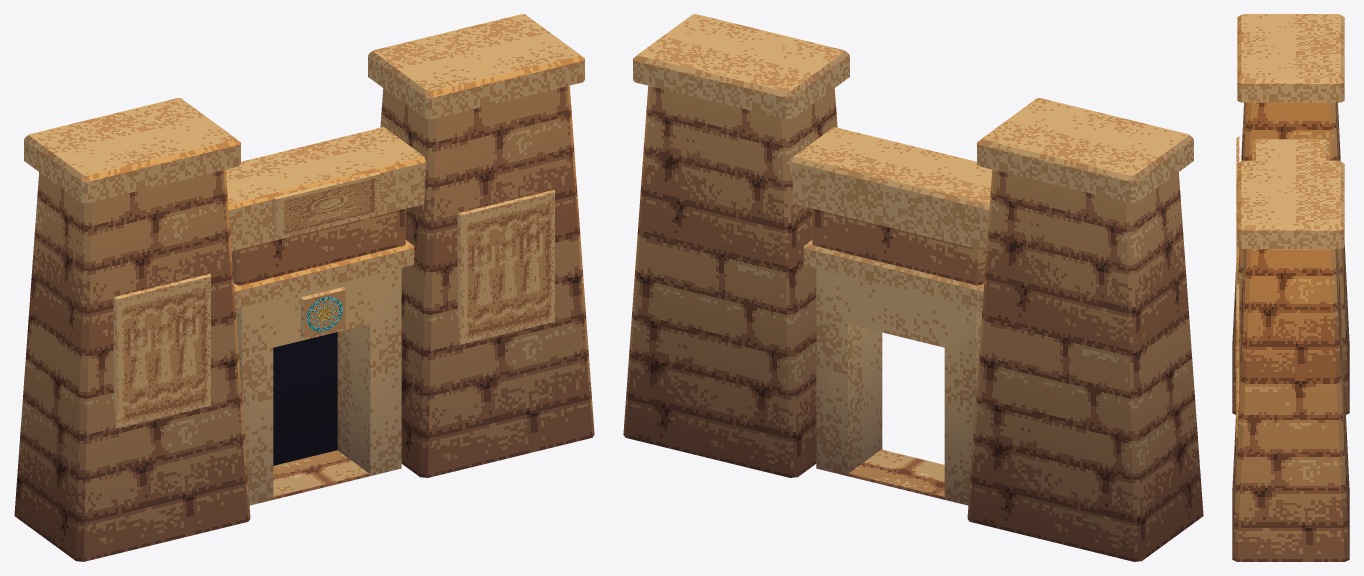
File: ruin.gate__pylon.glb
The picture shows the model from 3 angles, left to right: view 1: azimuth 30°, elevation 25°; view 2: azimuth 150°, elevation 25°; view 3: azimuth 270°, elevation 25°; orthographic projection. The views are drawn at different scales.
Visible parts, largest first — view 1: kit_towers, kit_beam, kit_frame, kit_shell_passage, kit_lintel, kit_threshold; view 2: kit_towers, kit_beam, kit_frame, kit_lintel, kit_threshold; view 3: kit_towers, kit_beam.
Boxes of the visible parts, x1=… form: kit_towers: x1=14, y1=14, x2=594, y2=561; kit_beam: x1=225, y1=127, x2=426, y2=285; kit_frame: x1=235, y1=268, x2=401, y2=505; kit_shell_passage: x1=273, y1=332, x2=337, y2=465; kit_lintel: x1=233, y1=240, x2=414, y2=337; kit_threshold: x1=273, y1=450, x2=369, y2=499; kit_towers: x1=623, y1=14, x2=1203, y2=561; kit_beam: x1=791, y1=127, x2=992, y2=285; kit_frame: x1=816, y1=268, x2=982, y2=505; kit_lintel: x1=803, y1=240, x2=984, y2=308; kit_threshold: x1=848, y1=449, x2=944, y2=499; kit_towers: x1=1232, y1=14, x2=1349, y2=561; kit_beam: x1=1252, y1=139, x2=1329, y2=160.
Bounding box in the file's own units: 10.7 × 7.5 × 2.4.
7 materials, 7 textured.
